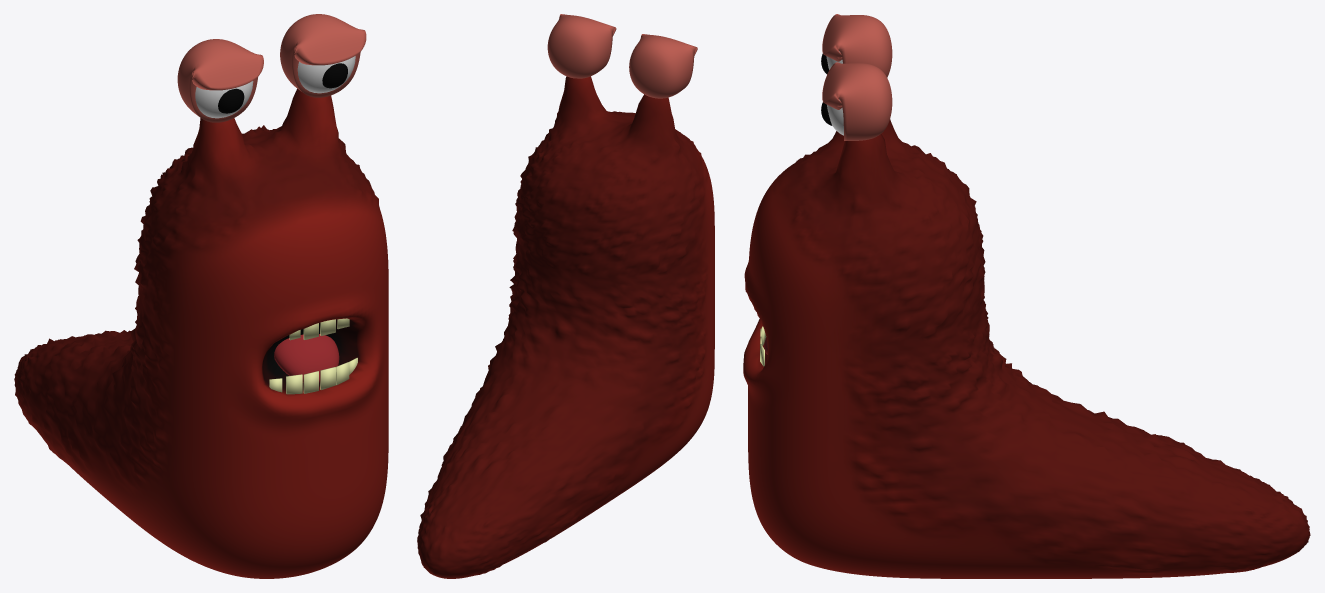
File: Babosa.fbx
The picture shows the model from 3 angles, left to right: view 1: azimuth 30°, elevation 25°; view 2: azimuth 150°, elevation 25°; view 3: azimuth 270°, elevation 25°; orthographic projection. The views are drawn at different scales.
Visible parts, largest first — view 1: Cube, Cube.001, Cube.004, Cube.005, Cube.003, Cube.002, Cube.007, Cube.006; view 2: Cube, Cube.001, Cube.004; view 3: Cube, Cube.004, Cube.001.
Boxes of the visible parts, left/top/right/bottom form: Cube: left=14, top=88, right=388, bottom=578; Cube.001: left=177, top=39, right=263, bottom=122; Cube.004: left=280, top=14, right=366, bottom=97; Cube.005: left=274, top=334, right=339, bottom=382; Cube.003: left=297, top=56, right=355, bottom=93; Cube.002: left=195, top=81, right=253, bottom=118; Cube.007: left=218, top=88, right=244, bottom=113; Cube.006: left=322, top=63, right=347, bottom=88; Cube: left=417, top=76, right=714, bottom=578; Cube.001: left=629, top=34, right=697, bottom=98; Cube.004: left=547, top=14, right=616, bottom=78; Cube: left=743, top=119, right=1310, bottom=578; Cube.004: left=822, top=62, right=892, bottom=140; Cube.001: left=822, top=14, right=892, bottom=77.
Size of the model in its own units: 195 by 450 by 442.
